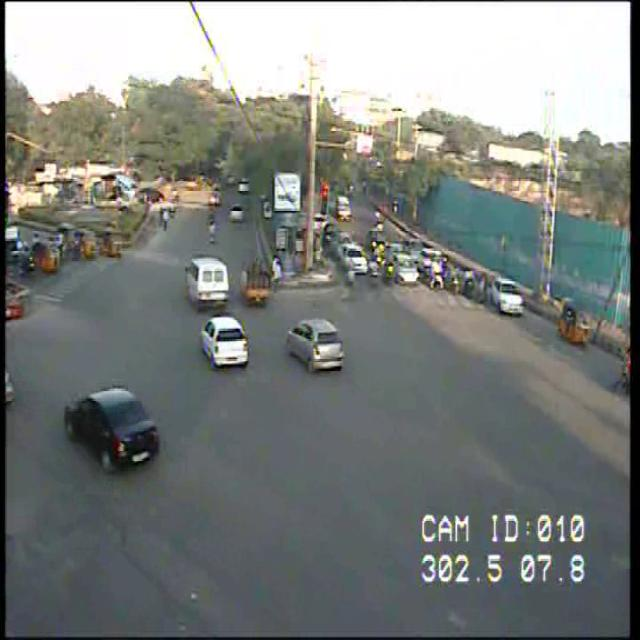noaccident: (84, 163, 618, 592)
